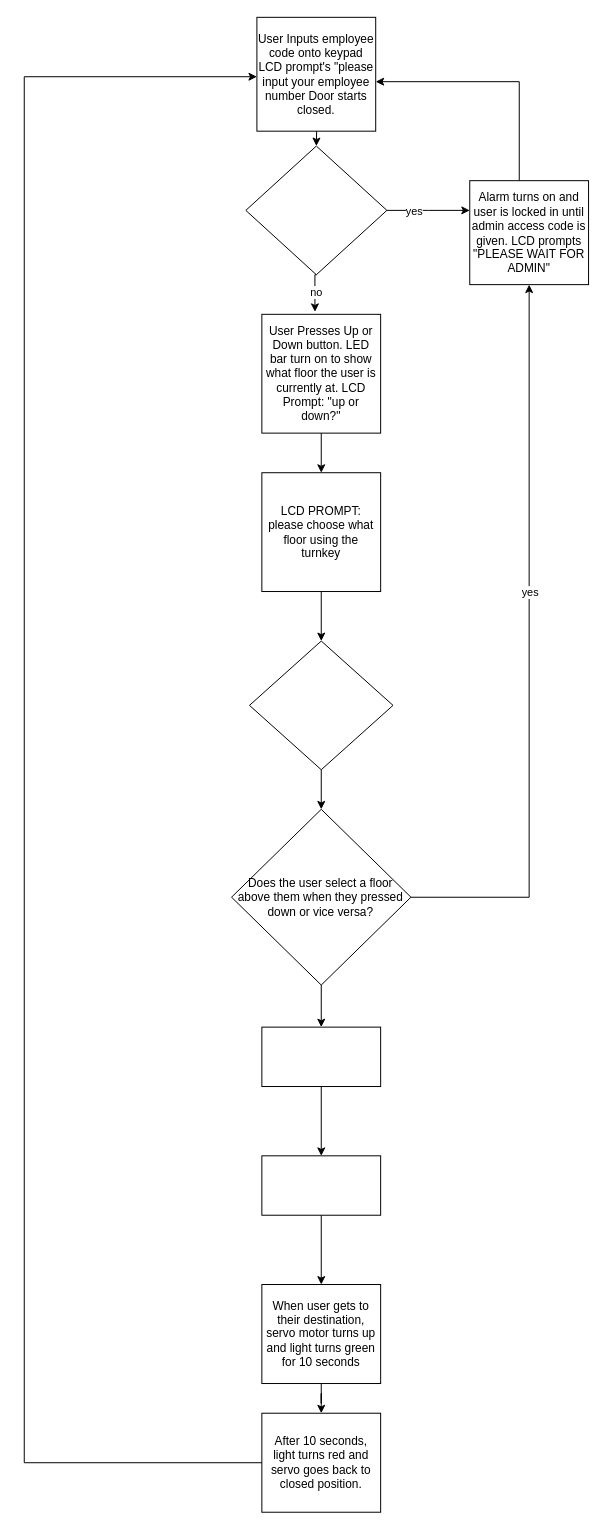
Some shapes in this 606 by 1530 pixel diagram are drawn without their labels. The shapes that lost their labels are listed below. From the top down, each one's centre as x and y in pixels, then its label:
point 316,210: Did the User input it wrong 3 times?
point 320,705: User selects floor using turnkey
point 321,1056: LCD screen Says "now going" + direction!
point 321,1185: Motor simulates going up or down floors.
